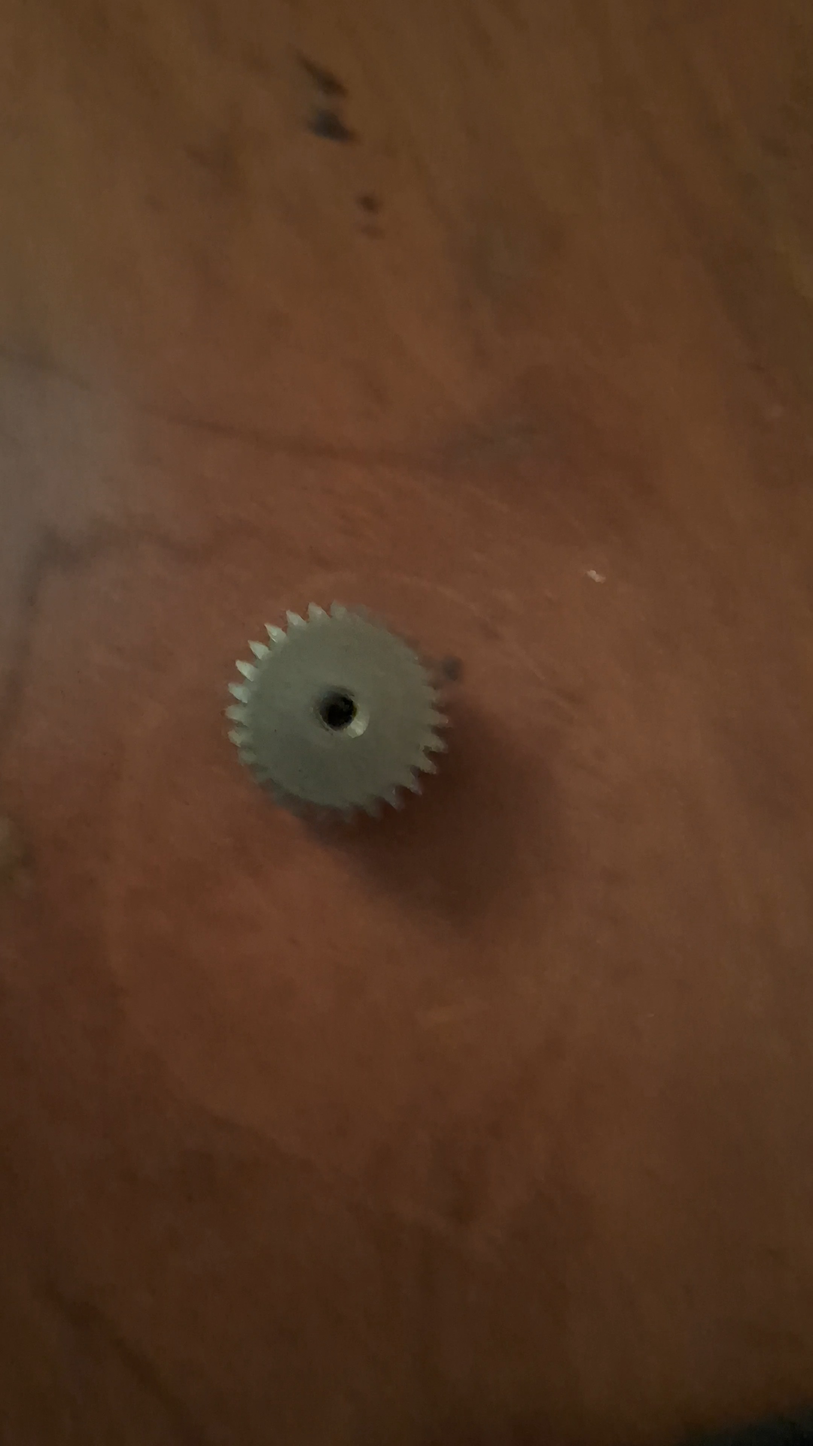spur gear: (227, 604, 446, 817)
